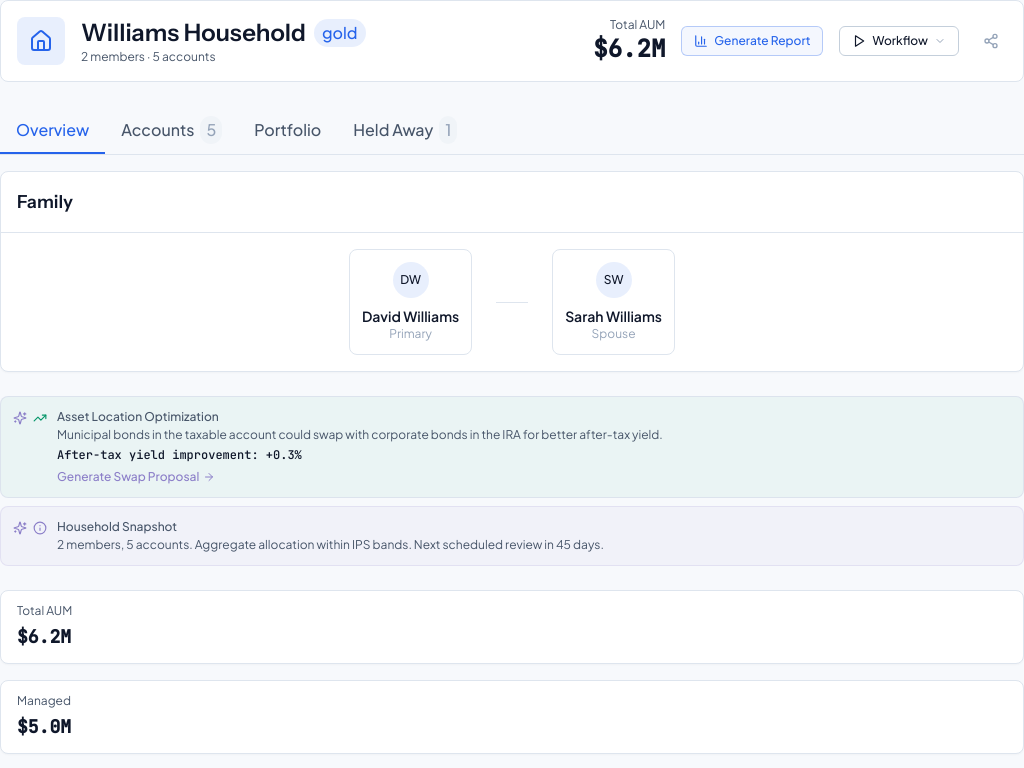
Test case: HouseholdDetailPage — Drift Summary › acc-011: reports 0 asset classes over threshold when neither breach exceeds the account's own 5% band
The width and height of the screenshot is (1024, 768).
Check: the heading "Williams Household" is shown, box [81, 17, 306, 49]
Step 1. Click the tab "Portfolio" → coordinates (288, 130), box [238, 106, 337, 154]
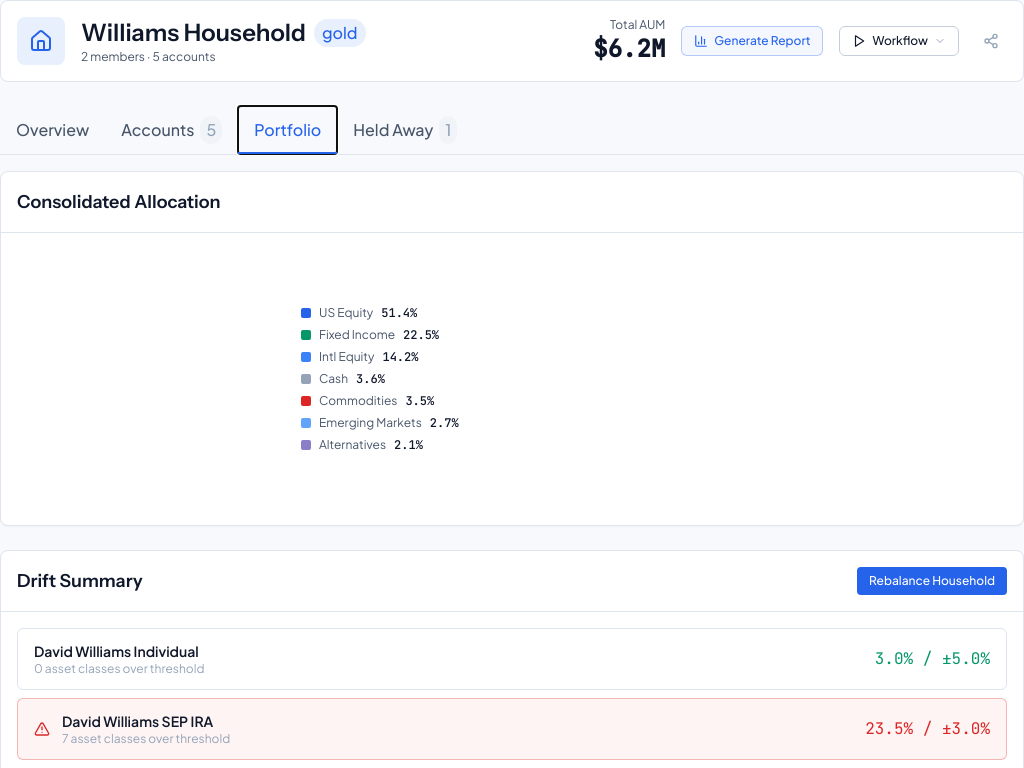
Check: the text "0 asset classes over threshold" is shown, box [34, 661, 204, 677]
